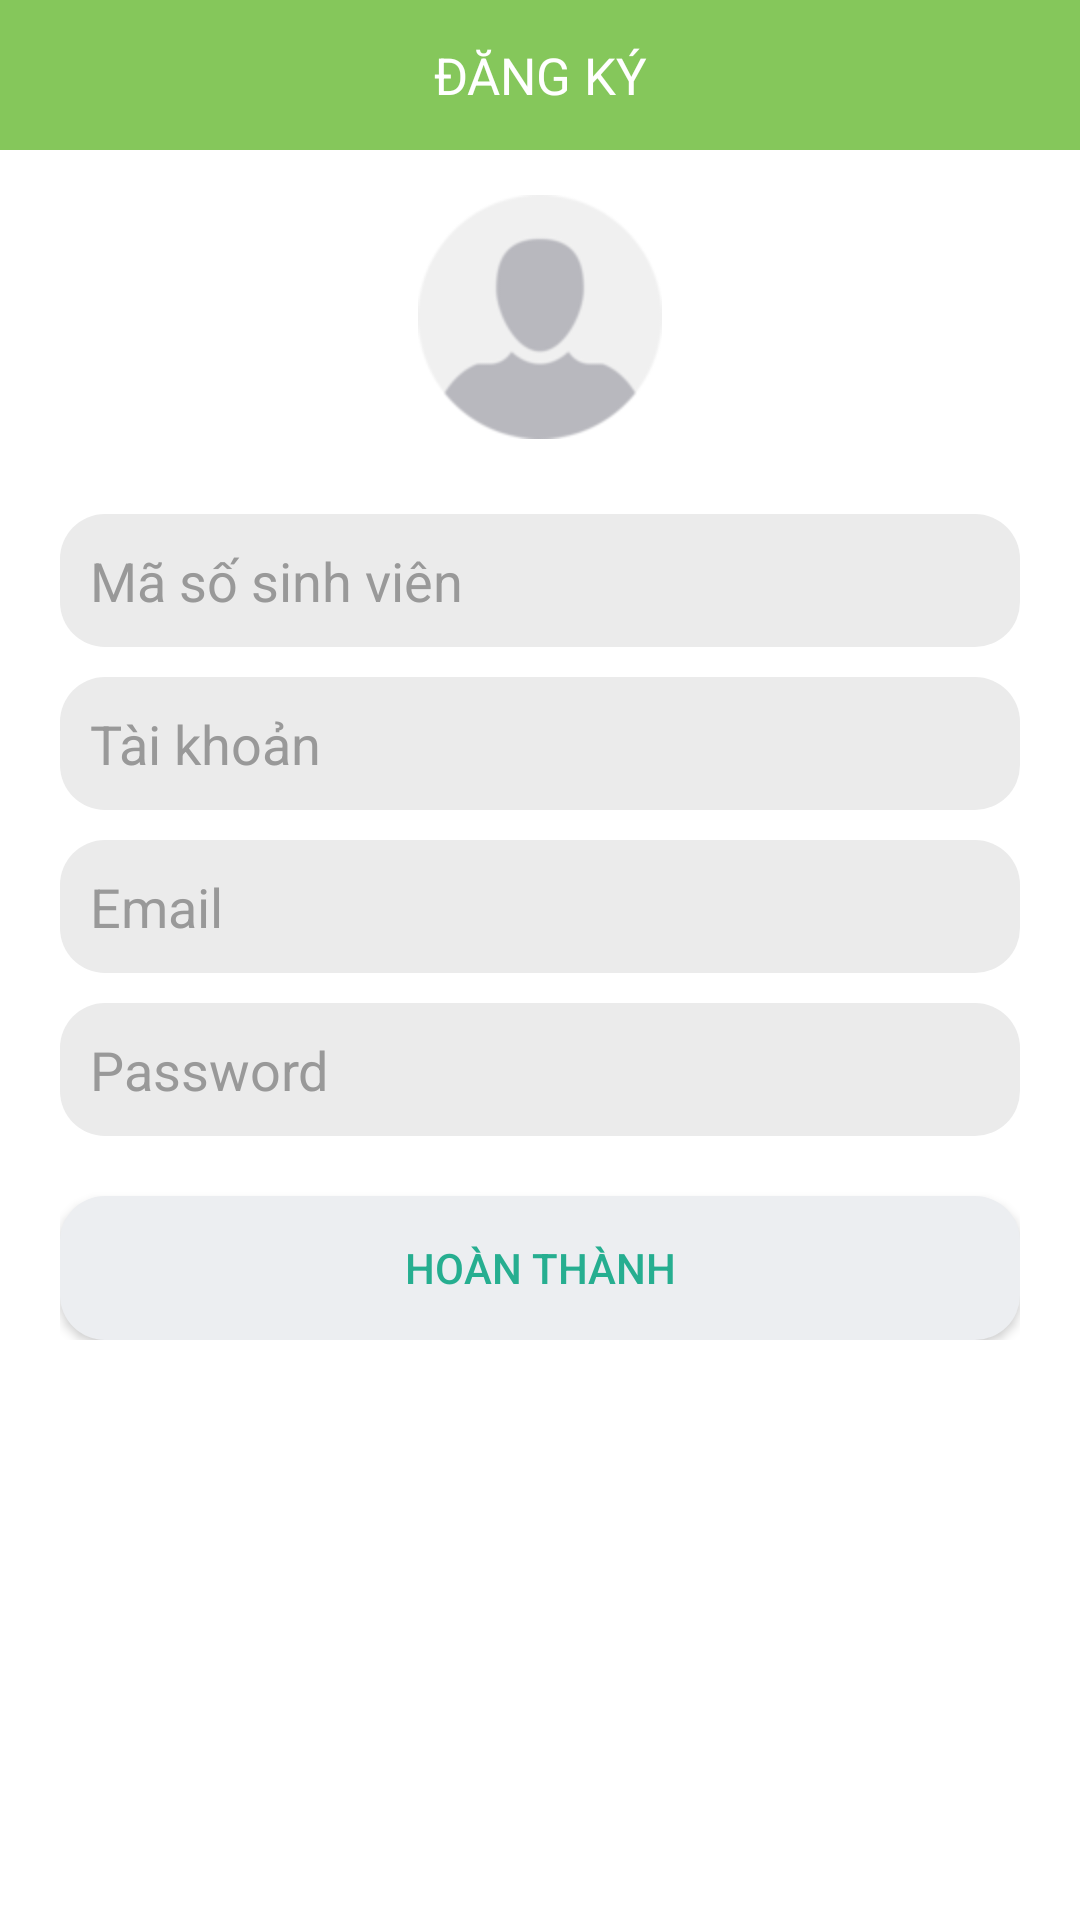

Where to tap for icons on this 1080x1920 app screen, as (x=x, y=y):
register user: (x=540, y=338)
